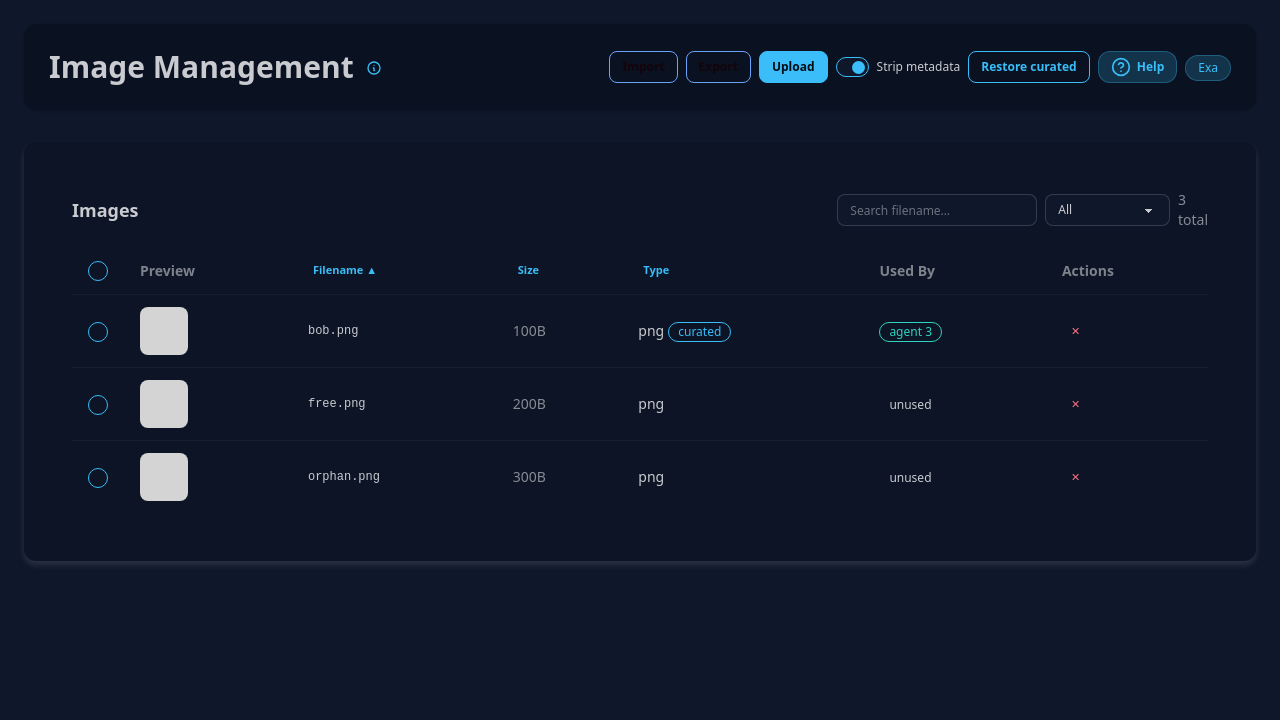
Test: ImageManagement bulk features › select-all selects every shown row and shows the bulk bar
expect the text "bob.png" is shown: met, box top-left (292, 295), bottom-right (497, 368)
Click the checkbox named "Select all shown". click: point(98, 271)
box: top-left (88, 261), bottom-right (108, 281)
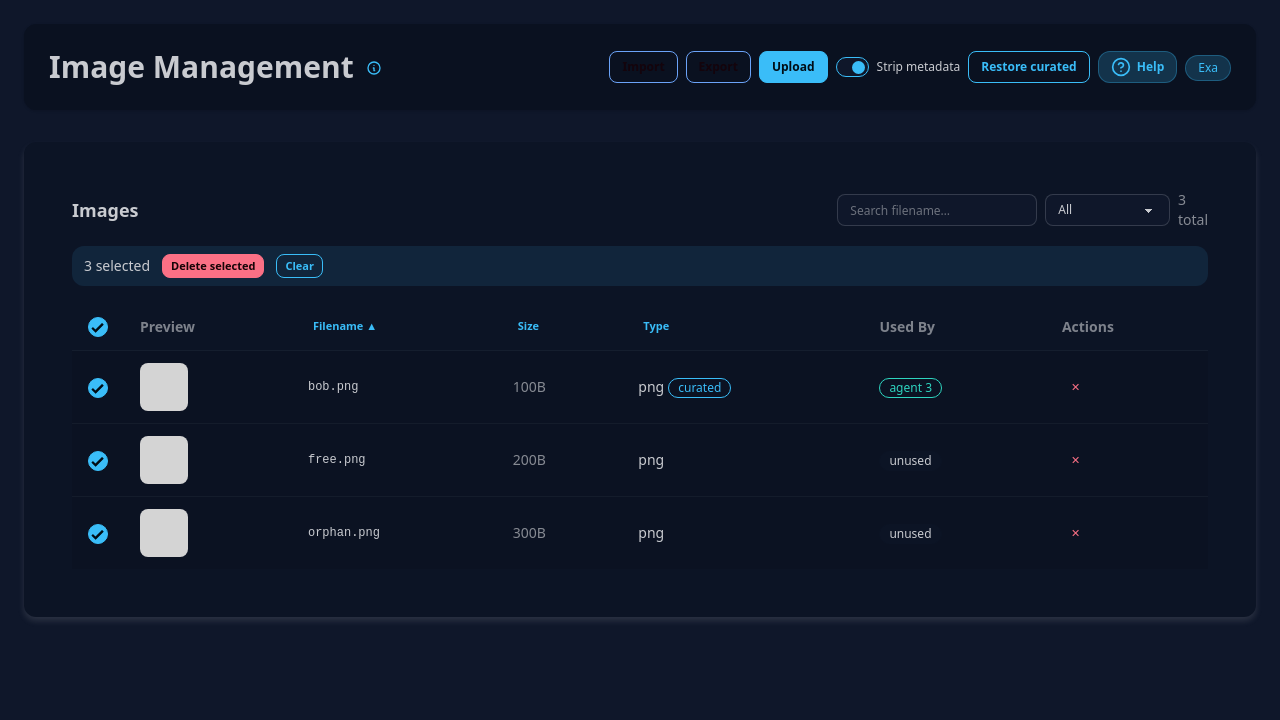
expect the text "3 selected" is shown: met, box top-left (84, 256), bottom-right (150, 276)
expect the checkbox named "Select bob.png" is checked: met, box top-left (88, 378), bottom-right (108, 398)
expect the checkbox named "Select free.png" is checked: met, box top-left (88, 451), bottom-right (108, 471)
